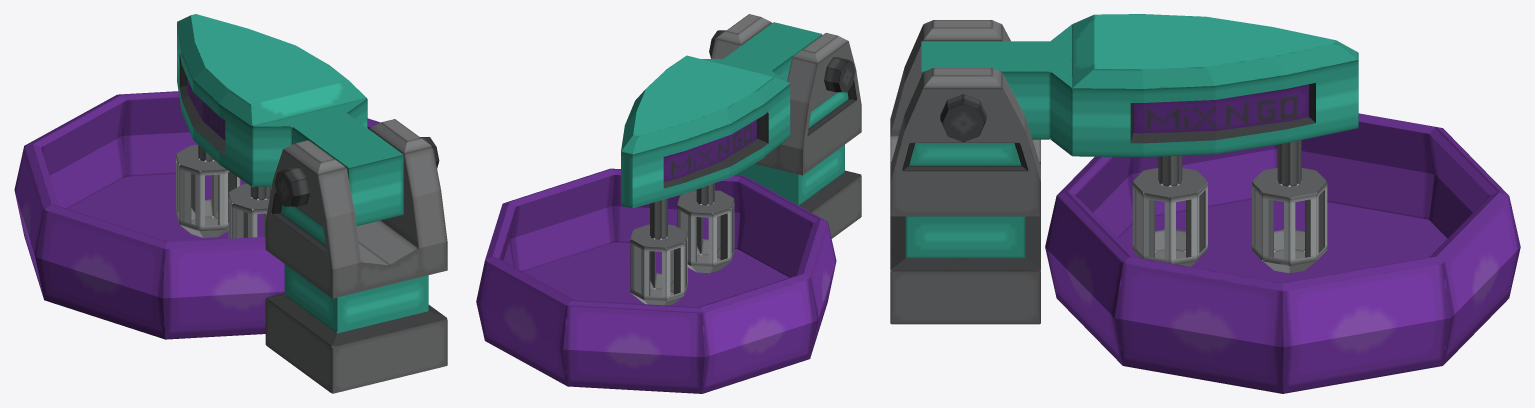
File: MIxerTest.fbx
3 views of the same model, side by side, from view 1: azimuth 30°, elevation 25°; view 2: azimuth 150°, elevation 25°; view 3: azimuth 270°, elevation 25° (orthographic). The views are drawn at different scales.
Parts seen in each view (by area): view 1: Mixerbowl, stand, Mixer, Whisk.001, Whisk.002, bolt; view 2: Mixerbowl, Mixer, stand, Whisk.001, Whisk.002, bolt; view 3: Mixerbowl, Mixer, stand, Whisk.001, Whisk.002, bolt.
Boxes of the visible parts, x1,y1,x2,y2 form: Mixerbowl: (14, 91, 380, 339); stand: (265, 119, 447, 393); Mixer: (177, 14, 403, 225); Whisk.001: (176, 145, 240, 237); Whisk.002: (228, 126, 271, 238); bolt: (274, 137, 439, 206); Mixerbowl: (476, 168, 836, 393); Mixer: (621, 22, 822, 208); stand: (711, 14, 861, 238); Whisk.001: (630, 198, 687, 305); Whisk.002: (677, 183, 734, 273); bolt: (709, 30, 855, 92); Mixerbowl: (1045, 113, 1520, 393); Mixer: (921, 14, 1358, 157); stand: (890, 20, 1040, 324); Whisk.001: (1252, 140, 1327, 273); Whisk.002: (1132, 155, 1207, 266); bolt: (940, 94, 986, 142).
Size of the model in its own units: 630 by 375 by 836.
